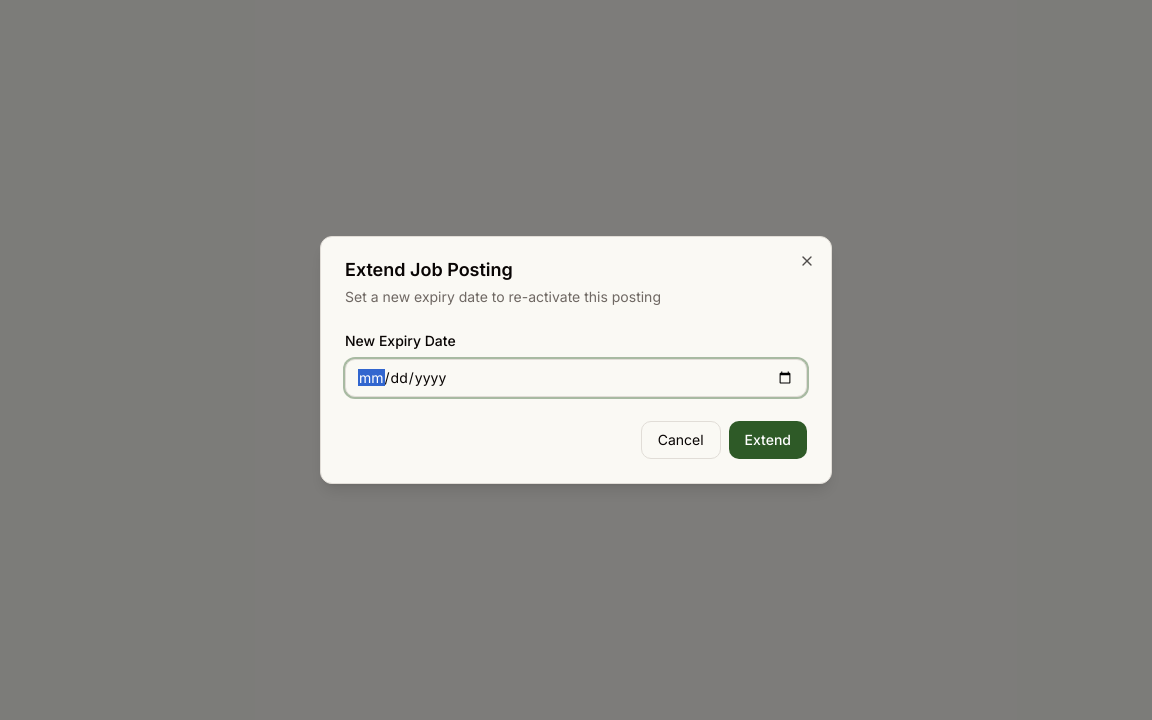
ExtendPostingModal › shows validation error when date is in the past
Type "2020-01-01" into the date field with test id "new-expires-at-input" at (576,378), box 345,359 -> 807,397
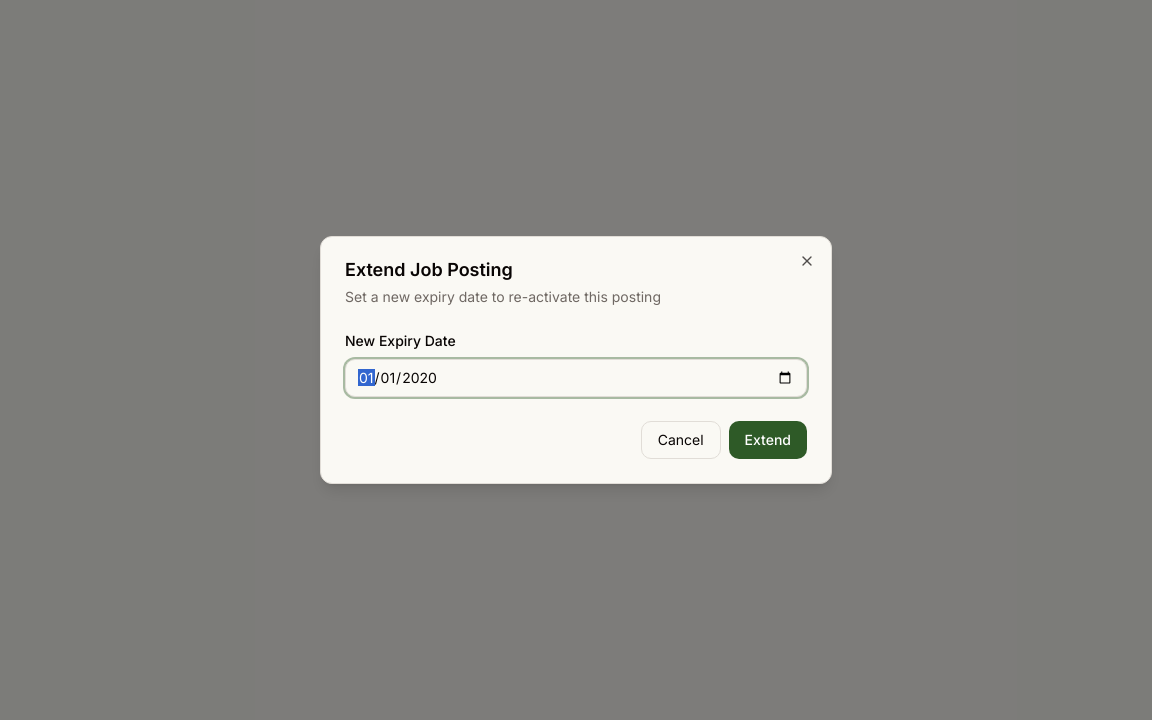
Click the button with test id "extend-confirm-button" at (768,440), box 729,421 -> 807,459
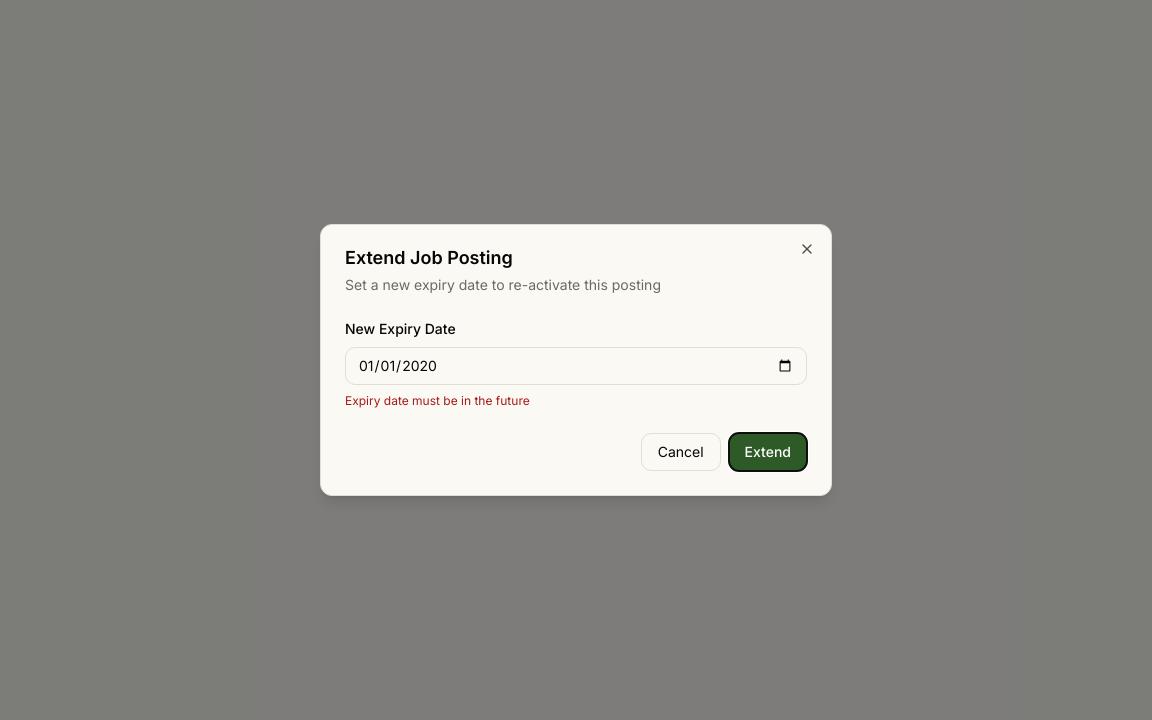
Result: the message reads "Expiry date must be in the future" at 345,393 -> 530,408
